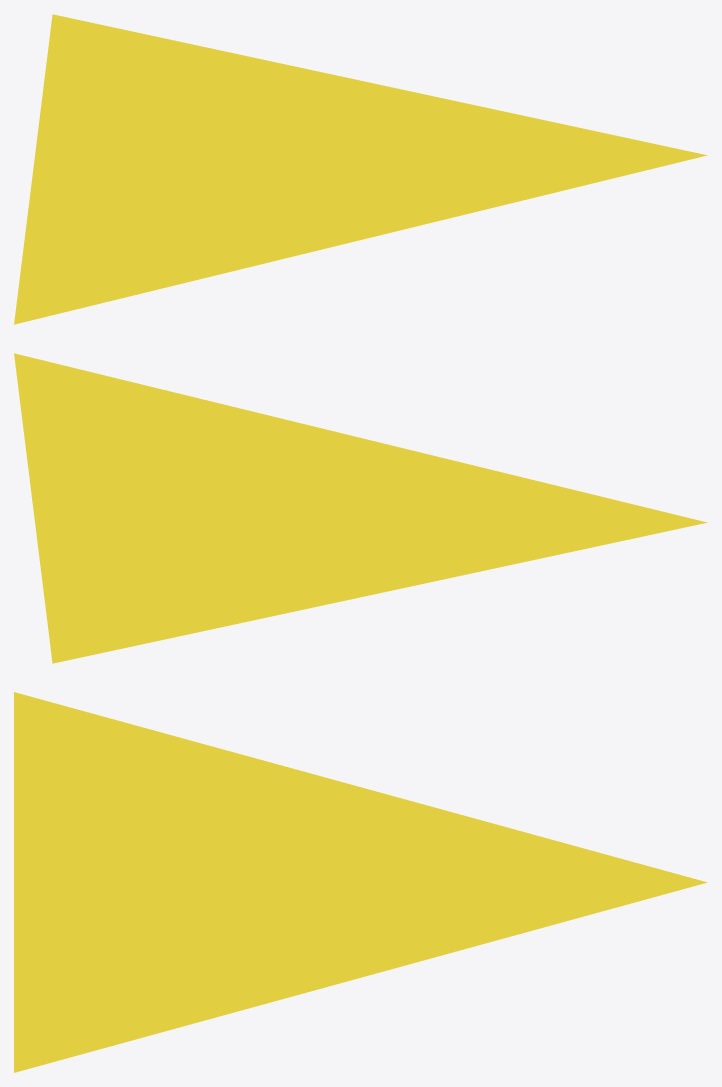
The model's file is LightGizmo.glb.
3 views of the same model, one above another, from view 1: azimuth 30°, elevation 25°; view 2: azimuth 150°, elevation 25°; view 3: azimuth 270°, elevation 25° (orthographic). The views are drawn at different scales.
Visible parts, largest first — view 1: SpotLight; view 2: SpotLight; view 3: SpotLight.
Part boxes in pixels (x1,y1,x2,y2): SpotLight: [14, 14, 707, 324]; SpotLight: [14, 353, 707, 663]; SpotLight: [14, 692, 707, 1072].
Size of the model in its own units: 0.2658 by 0 by 0.2046.
